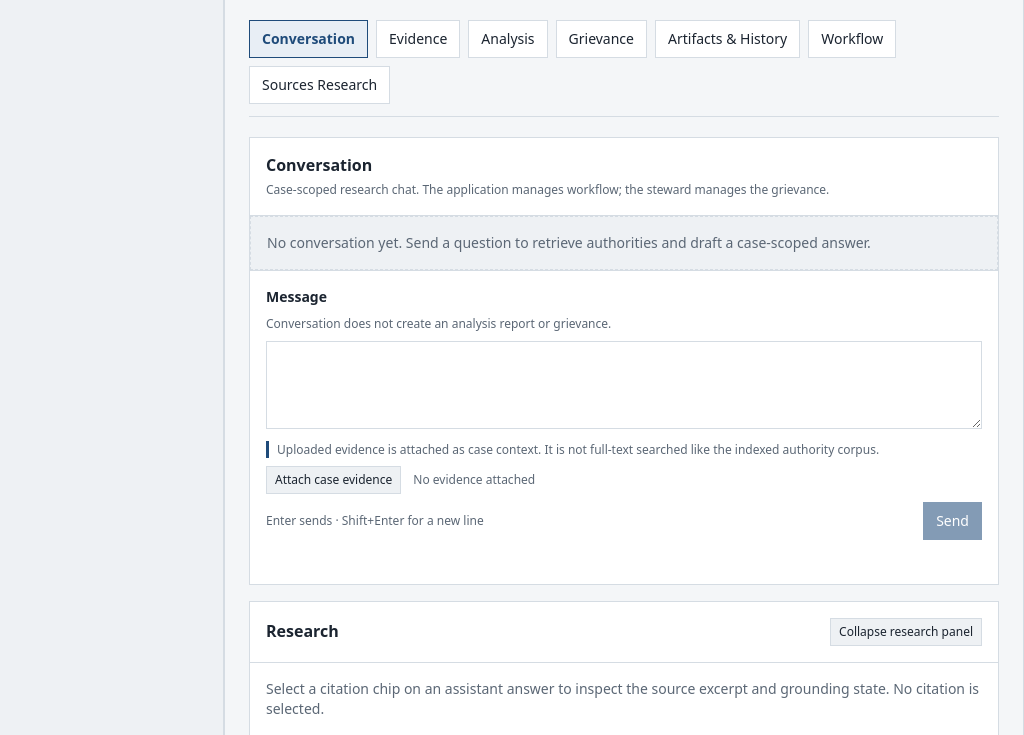
Scenario: W6 M3 Conversation and Retrieval › preserves steward text and offers Retry on interaction failure
The width and height of the screenshot is (1024, 735).
(page scrolled)
Expected: the heading "Conversation" is shown, [266, 154, 372, 176]
Step 1. Type "Need help with overtime" into the text box labelled "Message" → (624, 385), box [266, 341, 982, 429]
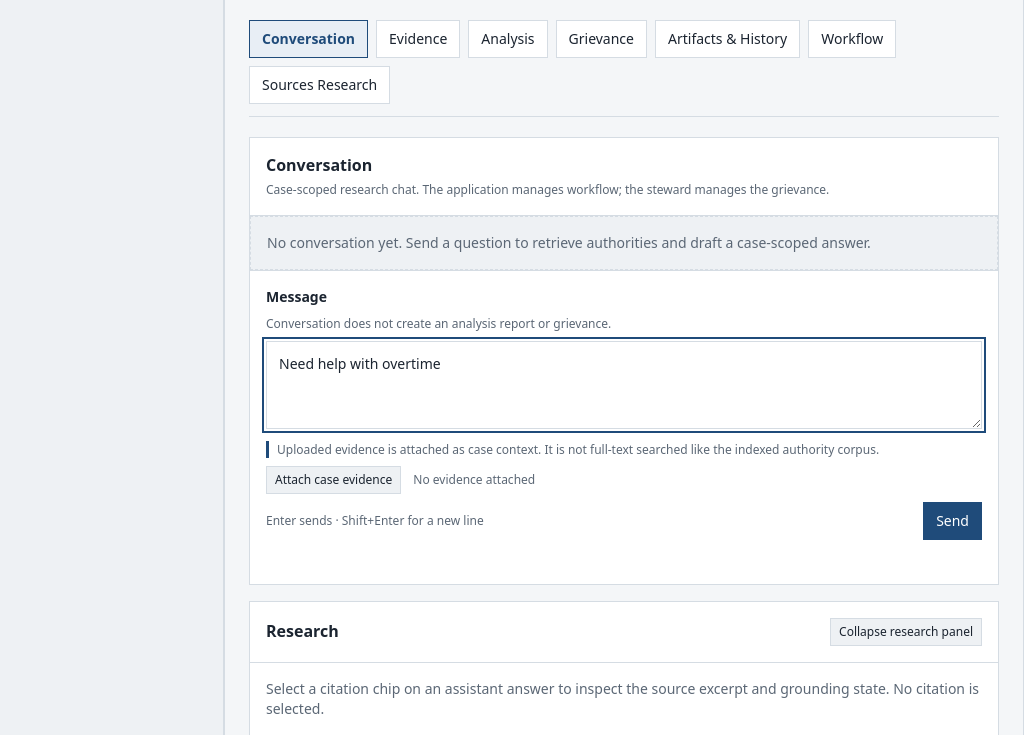
Step 2. Click the button named "Send message" → (953, 521), box [923, 502, 982, 540]
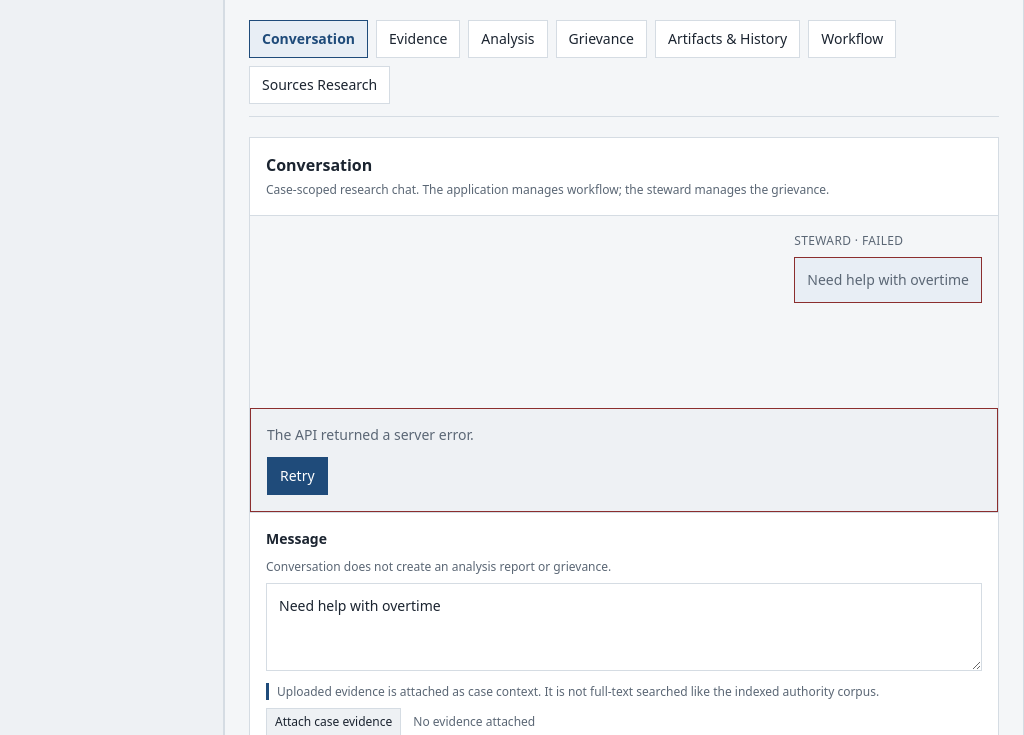
Expected: the button "Retry" is shown
Step 3. Click the button "Retry" → (297, 476), box [267, 457, 328, 495]
(page scrolled)
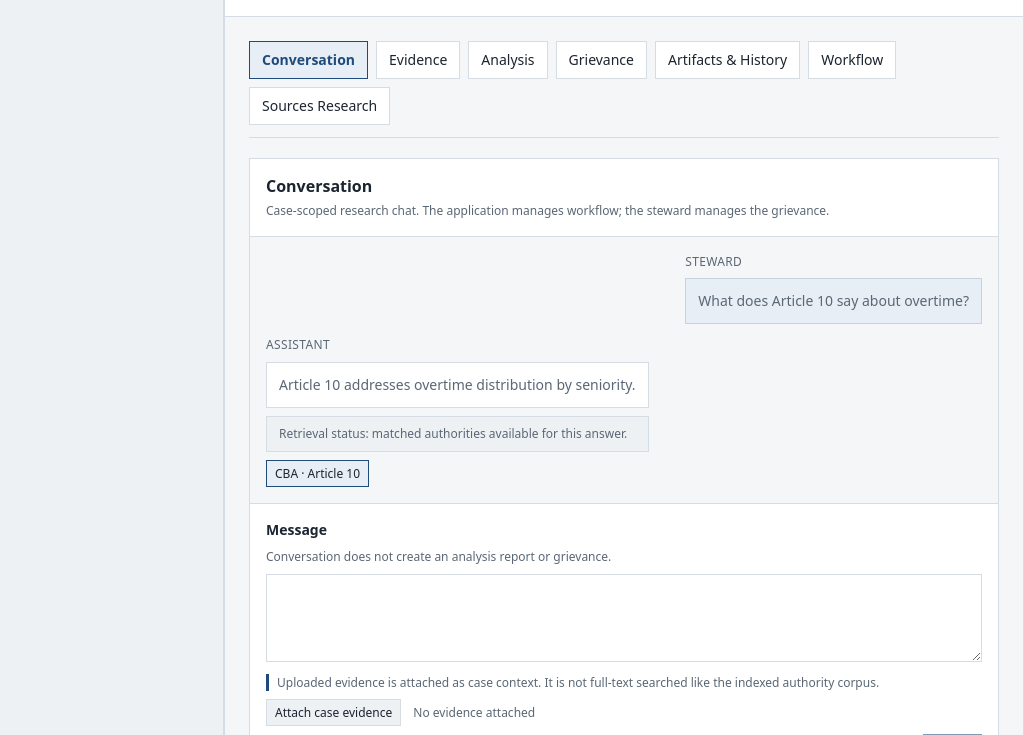
Expected: the text "Article 10 addresses overtime distribution by seniority." is shown, [279, 375, 636, 395]
